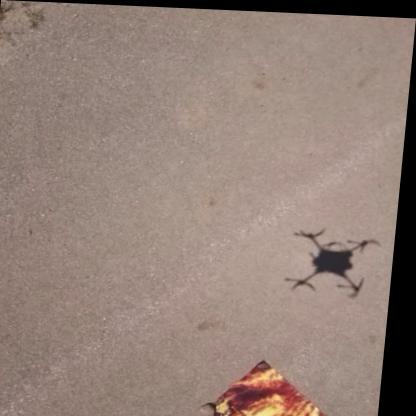fire-poster: (207, 354, 343, 416)
